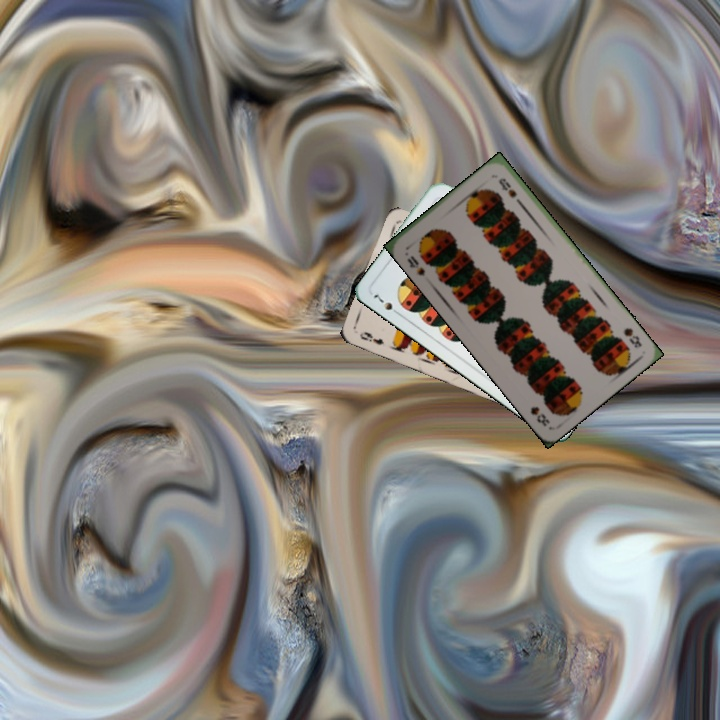E9: (355, 328, 386, 347)
S7: (369, 290, 404, 318)
S8: (403, 251, 428, 278), (620, 323, 645, 350)
